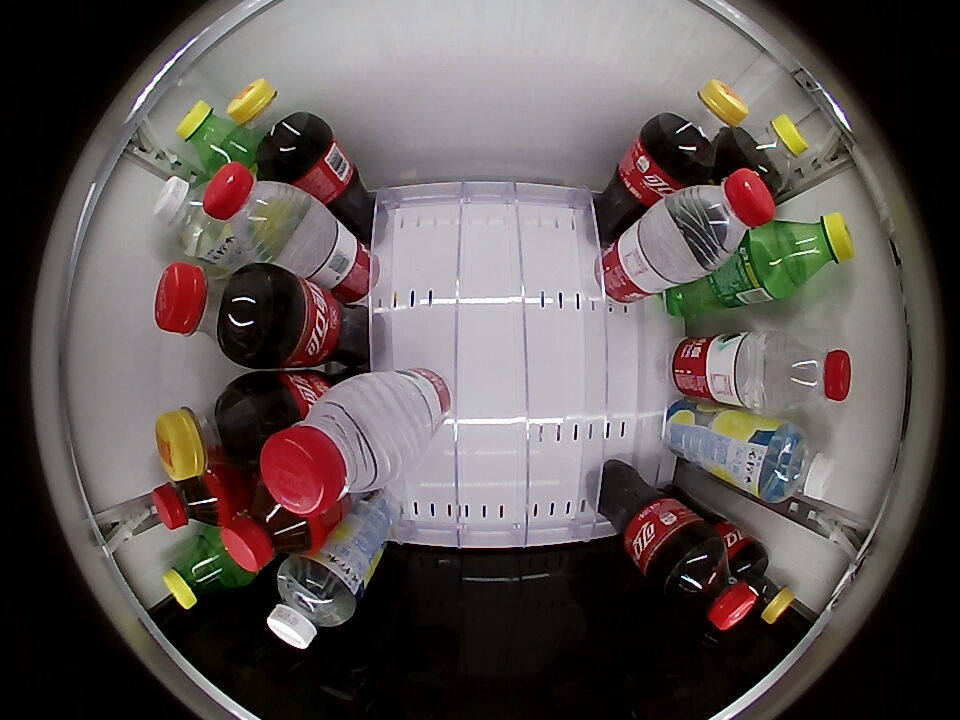baishikele: (733, 114, 808, 191)
binghongcha: (220, 476, 327, 571), (153, 471, 228, 532)
kele-b: (156, 261, 271, 361), (665, 536, 756, 631)
kele-b-2: (156, 383, 266, 478), (654, 79, 749, 172), (227, 79, 320, 168), (740, 554, 795, 625)
nongfushanquan: (262, 378, 408, 517), (668, 168, 777, 269), (203, 162, 306, 261), (762, 331, 853, 413)
qinningshui: (266, 555, 358, 650), (754, 423, 835, 503), (153, 175, 226, 259)
xuebi-b: (769, 212, 854, 288), (164, 533, 245, 610), (177, 100, 249, 173)
